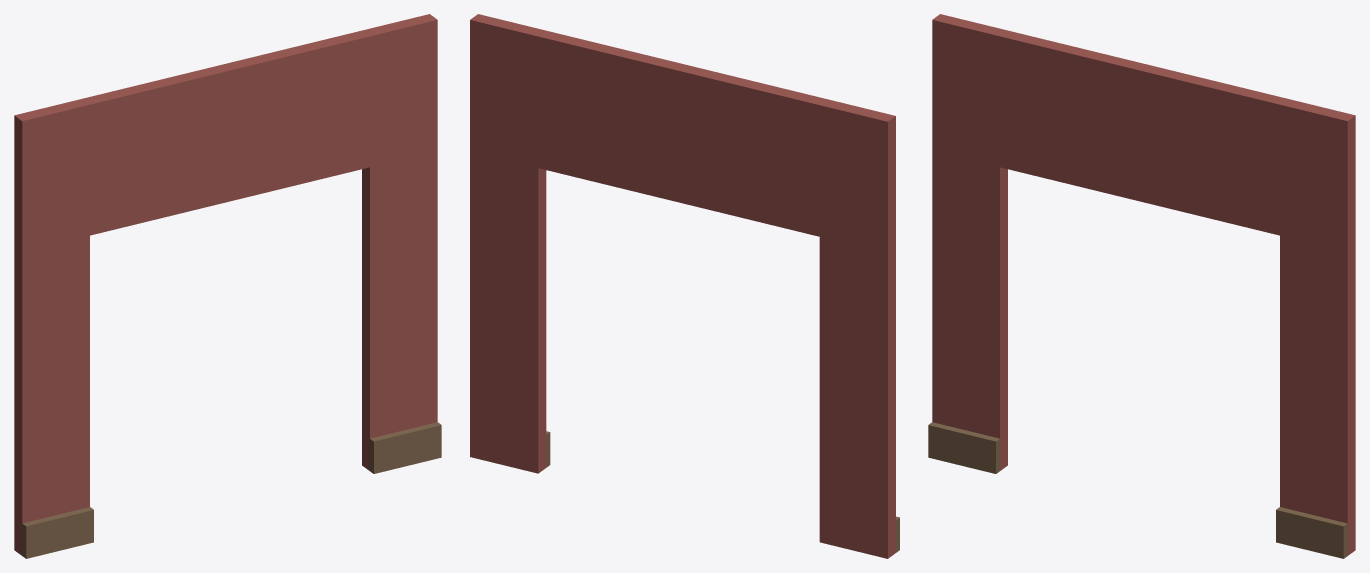
Rendered from Mesh_WallBaseboard_C4.fbx.
3 renders of one model, left to right at view 1: azimuth 30°, elevation 25°; view 2: azimuth 150°, elevation 25°; view 3: azimuth 330°, elevation 25°, orthographic.
Parts seen in each view (by area): view 1: Mesh_WallBaseboard_C4; view 2: Mesh_WallBaseboard_C4; view 3: Mesh_WallBaseboard_C4.
Part boxes in pixels (<box>): Mesh_WallBaseboard_C4: <box>14,14,441,558</box>; Mesh_WallBaseboard_C4: <box>470,14,899,558</box>; Mesh_WallBaseboard_C4: <box>928,14,1355,558</box>.
Size of the model in its own units: 3 by 3 by 0.15.
